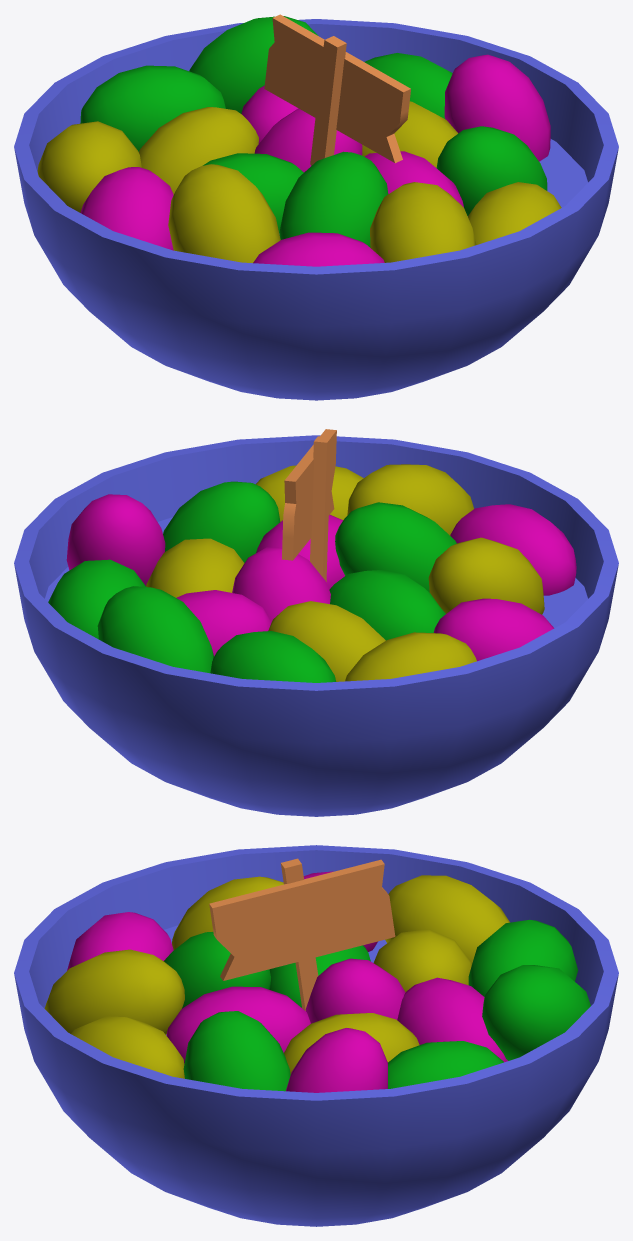
File: KF_Train_Rail_Part.fbx
3 views of the same model, one above another, from view 1: azimuth 30°, elevation 25°; view 2: azimuth 150°, elevation 25°; view 3: azimuth 270°, elevation 25° (orthographic).
Parts seen in each view (by area): view 1: KF_Easter_Eggs_Low_Poly; view 2: KF_Easter_Eggs_Low_Poly; view 3: KF_Easter_Eggs_Low_Poly.
Part boxes in pixels (box(x1,y1,x2,y2)): KF_Easter_Eggs_Low_Poly: box(14, 14, 618, 400); KF_Easter_Eggs_Low_Poly: box(14, 429, 618, 816); KF_Easter_Eggs_Low_Poly: box(14, 845, 618, 1226).
Bounding box in the file's own units: 220 × 131 × 220.
